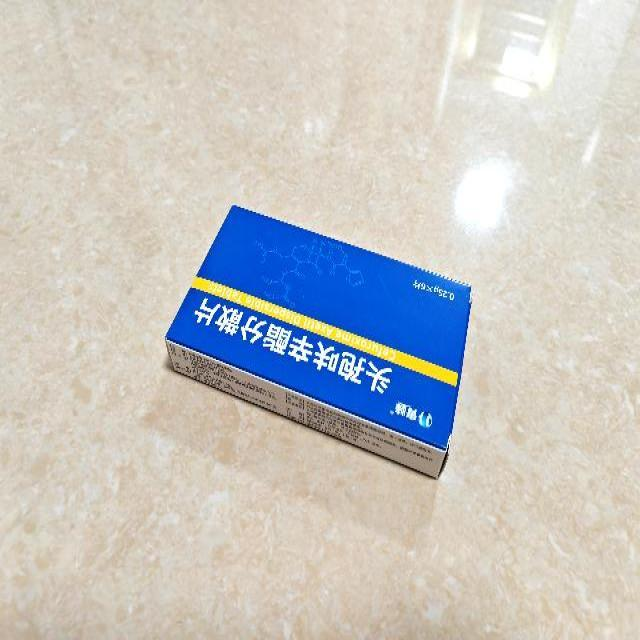box: (163, 204, 473, 479)
